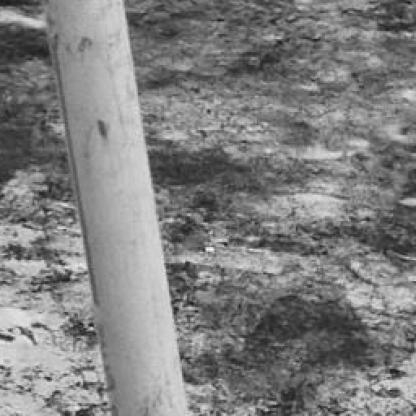PVC: (44, 2, 188, 414)
